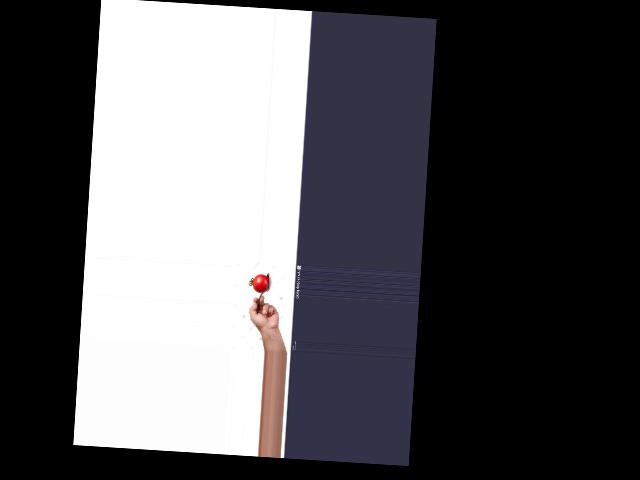tomato: (252, 274, 269, 293)
